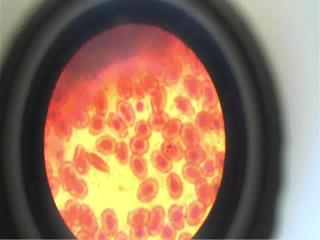cell: (136, 180, 162, 203), (173, 93, 193, 117), (161, 136, 182, 158), (151, 149, 170, 173), (79, 206, 97, 230), (117, 104, 137, 125), (150, 90, 169, 112), (184, 124, 203, 146), (168, 203, 187, 225), (202, 82, 220, 105), (130, 154, 148, 176), (167, 175, 185, 197), (184, 77, 200, 101), (60, 166, 76, 190), (189, 199, 203, 226), (102, 212, 120, 232), (128, 208, 148, 226), (95, 134, 114, 152), (184, 165, 203, 183), (152, 205, 162, 237), (94, 93, 111, 111), (73, 110, 90, 128), (134, 118, 152, 135), (186, 149, 208, 162), (149, 114, 169, 128), (118, 142, 130, 165), (73, 179, 89, 195), (92, 117, 109, 132), (166, 119, 180, 137), (134, 137, 150, 151)
